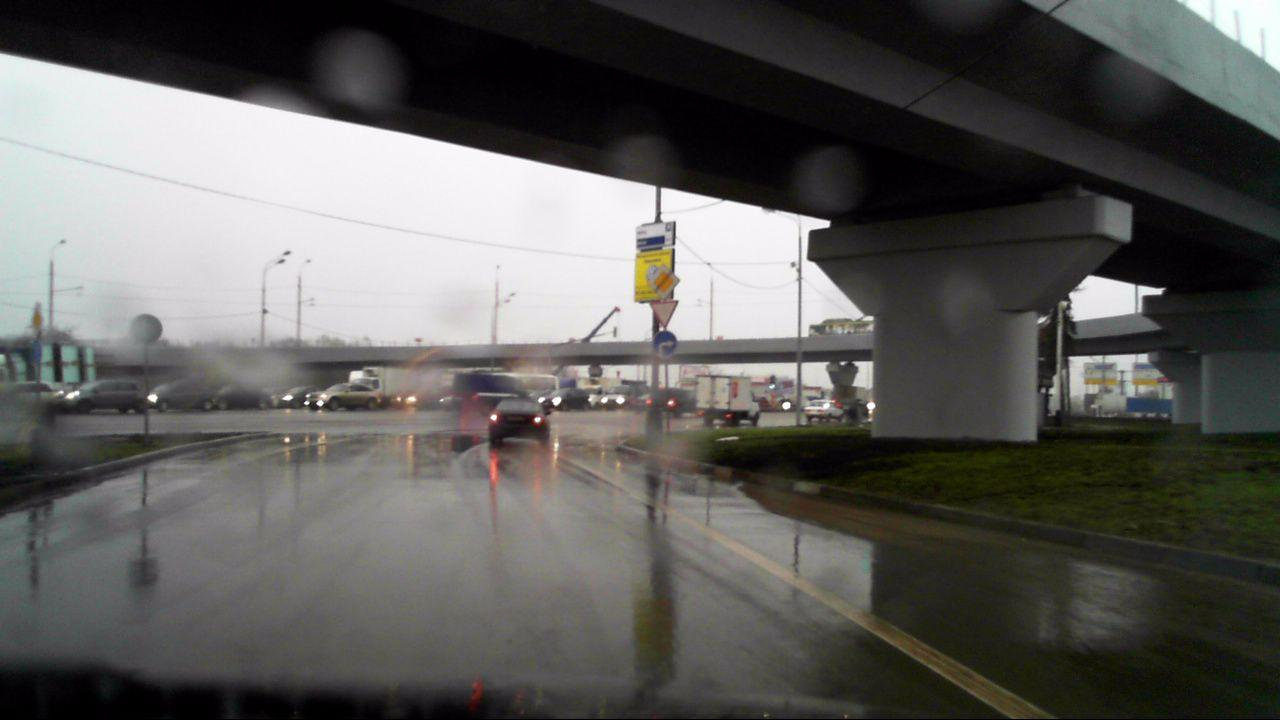2_1: (31, 305, 47, 332)
2_2: (648, 264, 680, 297)
2_4: (650, 300, 681, 328)
4_1_1: (28, 341, 42, 362)
4_1_2: (651, 332, 679, 359)
